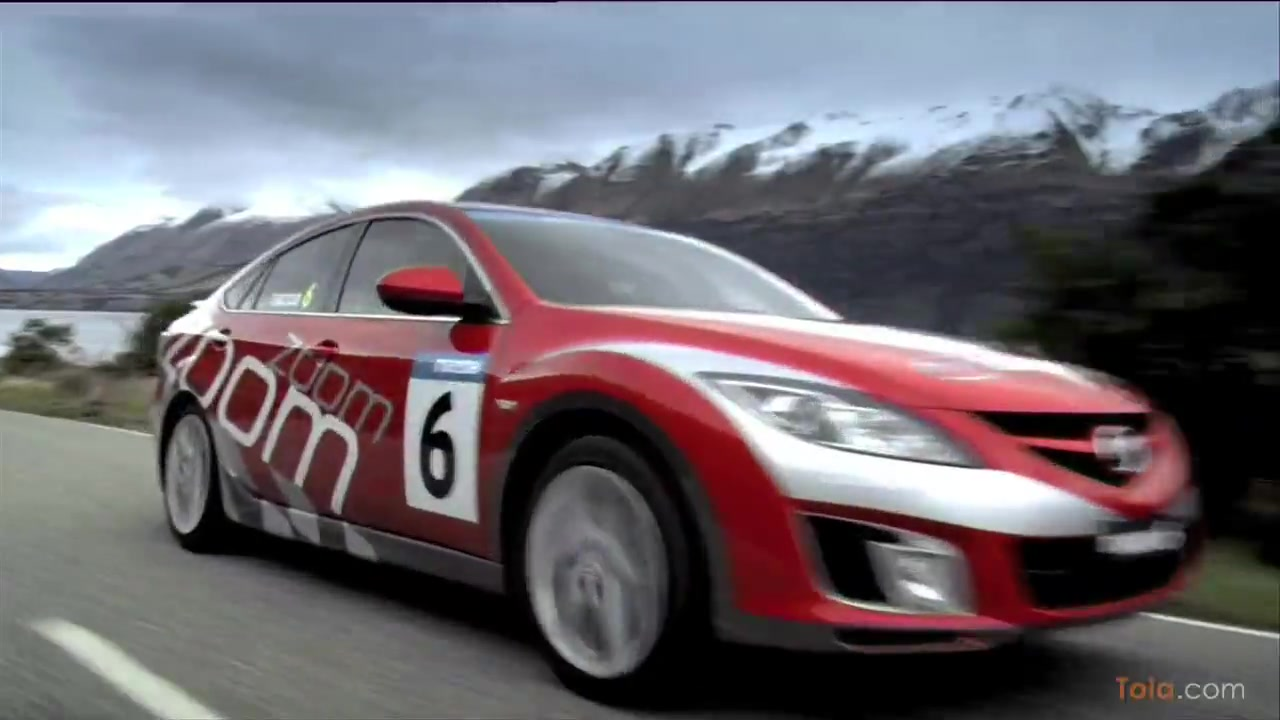car: (148, 197, 1207, 711)
